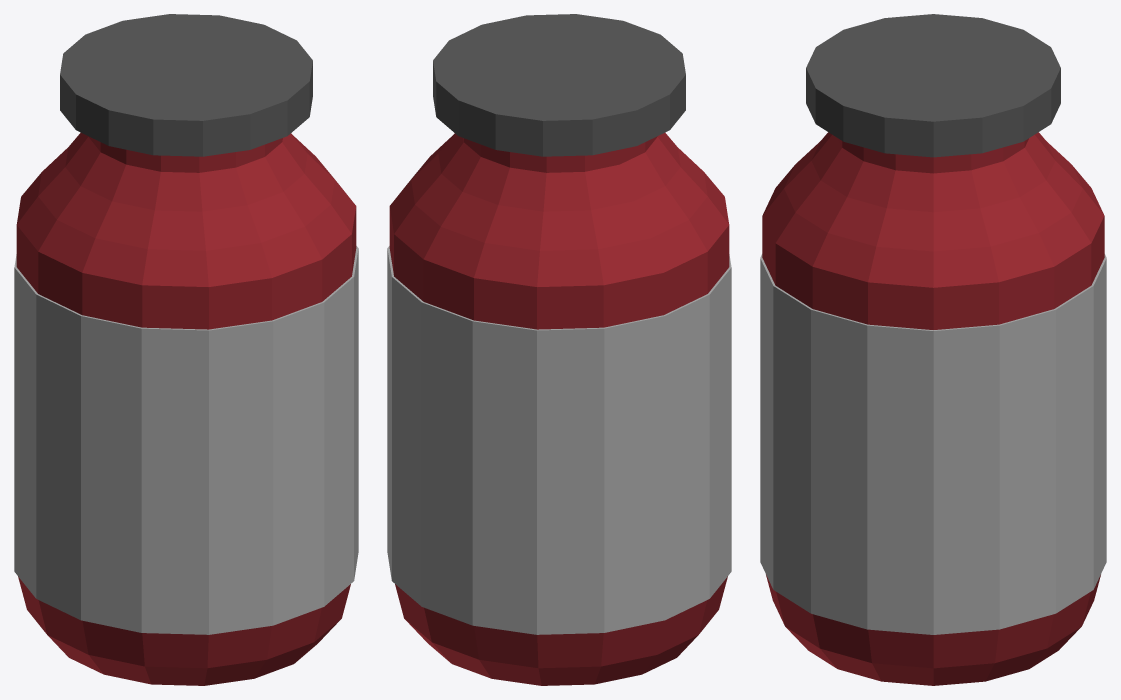
File: Medicine.fbx
3 views of the same model, side by side, from view 1: azimuth 30°, elevation 25°; view 2: azimuth 150°, elevation 25°; view 3: azimuth 270°, elevation 25° (orthographic).
Visible parts, largest first — view 1: Health Bottle; view 2: Health Bottle; view 3: Health Bottle.
Boxes of the visible parts, x1,y1,x2,y2 form: Health Bottle: (14, 14, 358, 685); Health Bottle: (387, 14, 731, 685); Health Bottle: (760, 14, 1106, 685).
Bounding box in the file's own units: 230 × 411 × 230.
